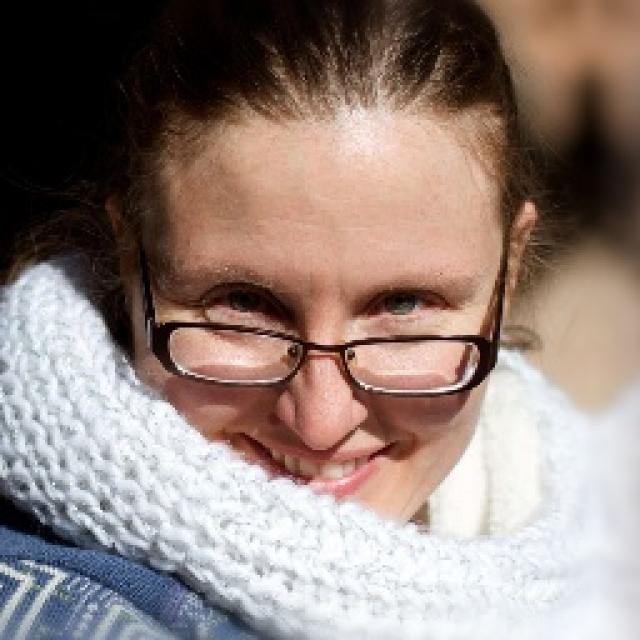glasses: (128, 225, 513, 405)
